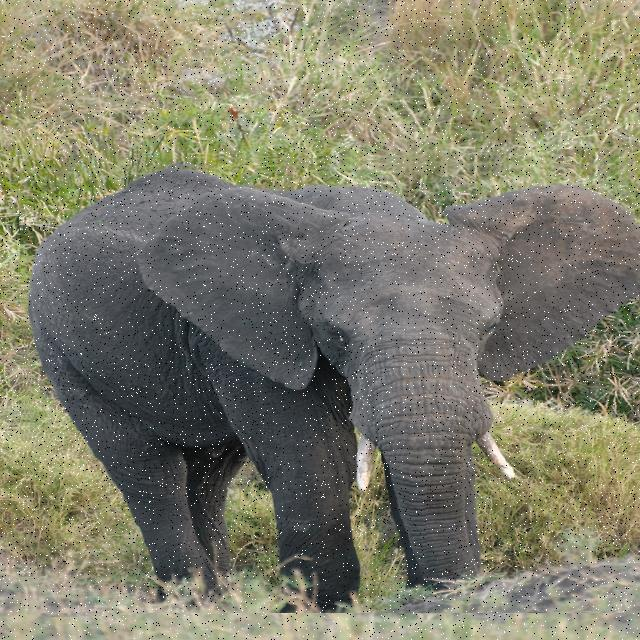elephant: (21, 152, 640, 613)
